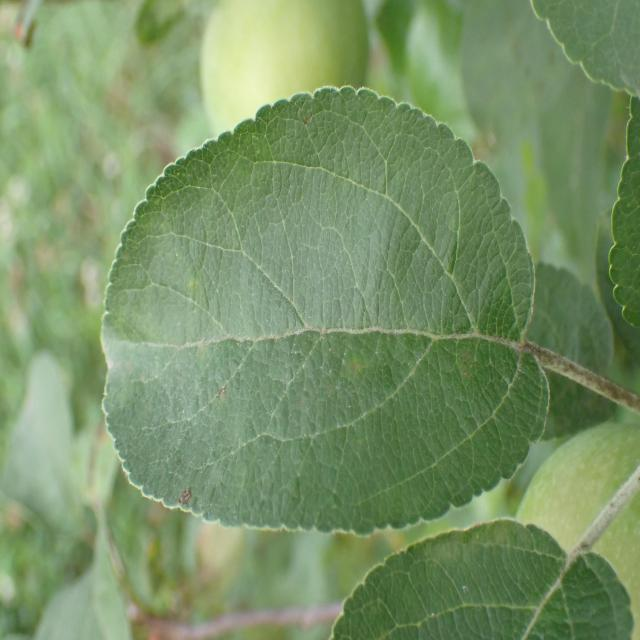scab: (149, 242, 523, 484)
